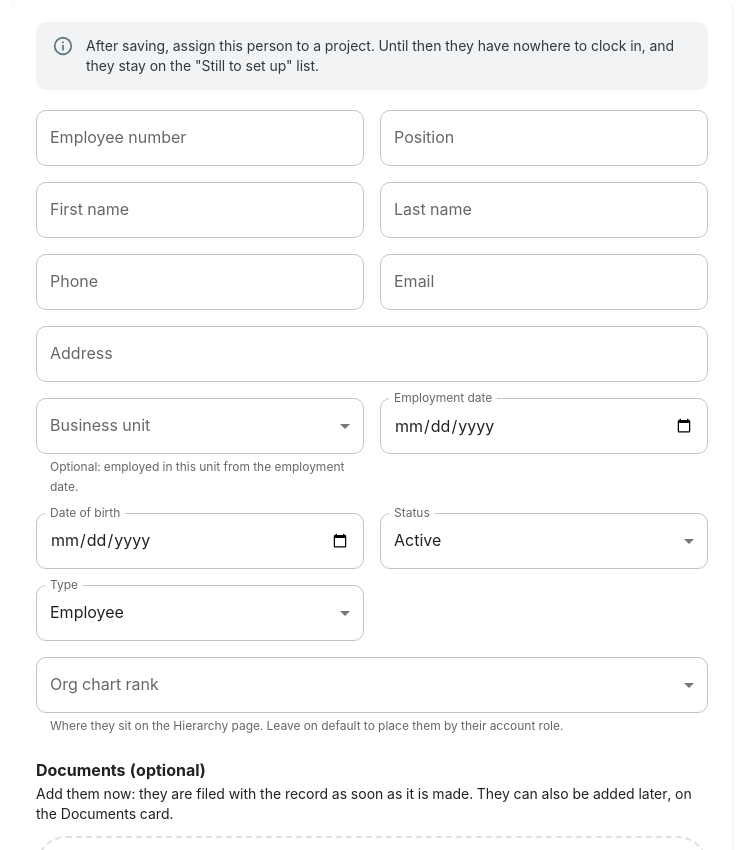
Test: EmployeeFormPage › rejects a date of birth after the employment date
Type "EMP-002" into the field labelled "Employee number" at (200, 138), box [36,110,364,166]
Type "Zidar" into the field labelled "Position" at (544, 138), box [380,110,708,166]
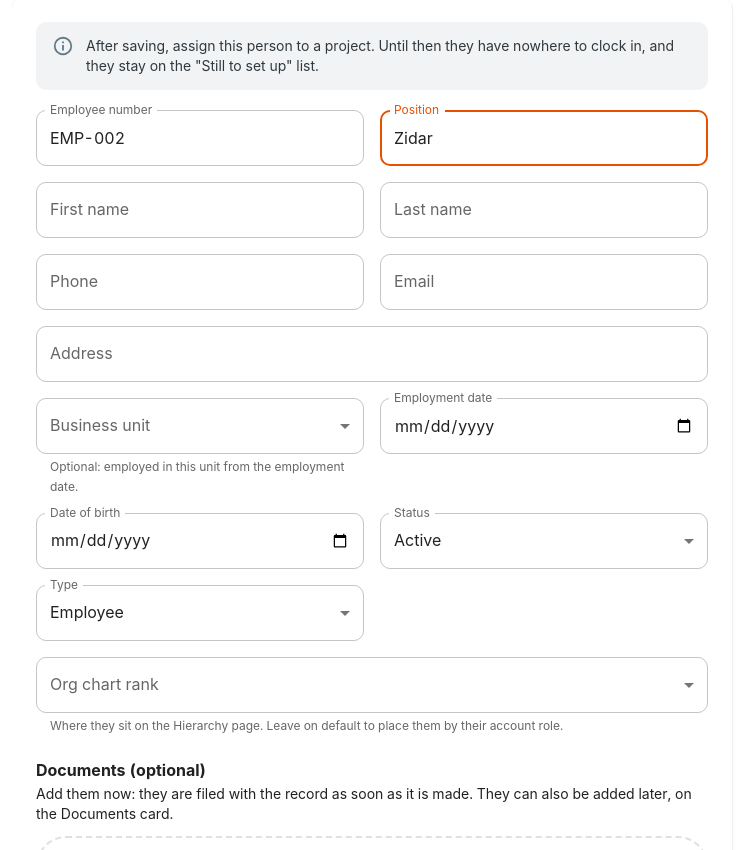
Type "Ana" into the field labelled "First name" at (200, 210), box [36,182,364,238]
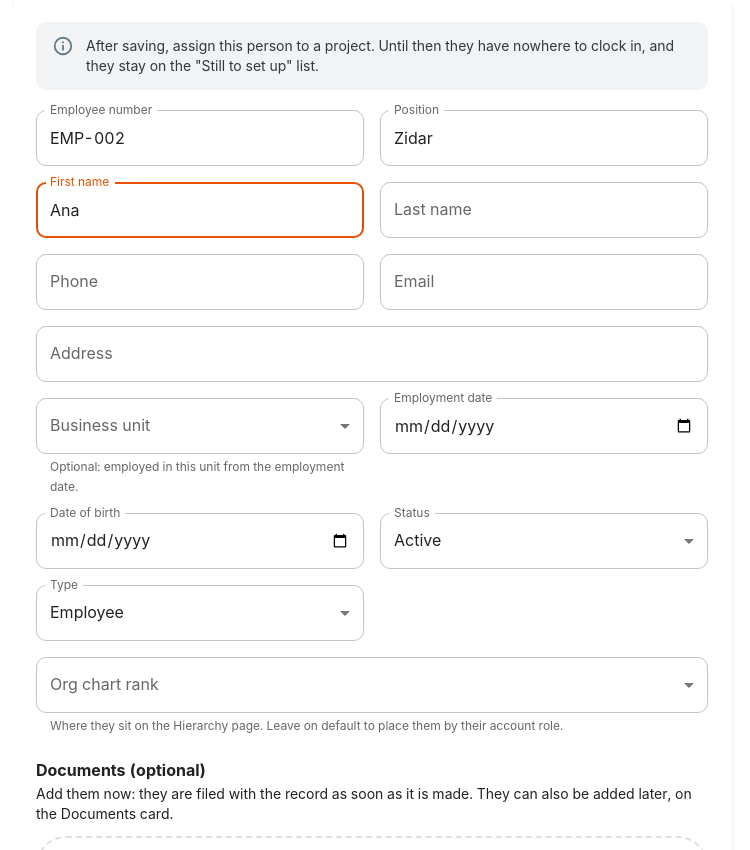
Type "Marić" into the field labelled "Last name" at (544, 210), box [380,182,708,238]
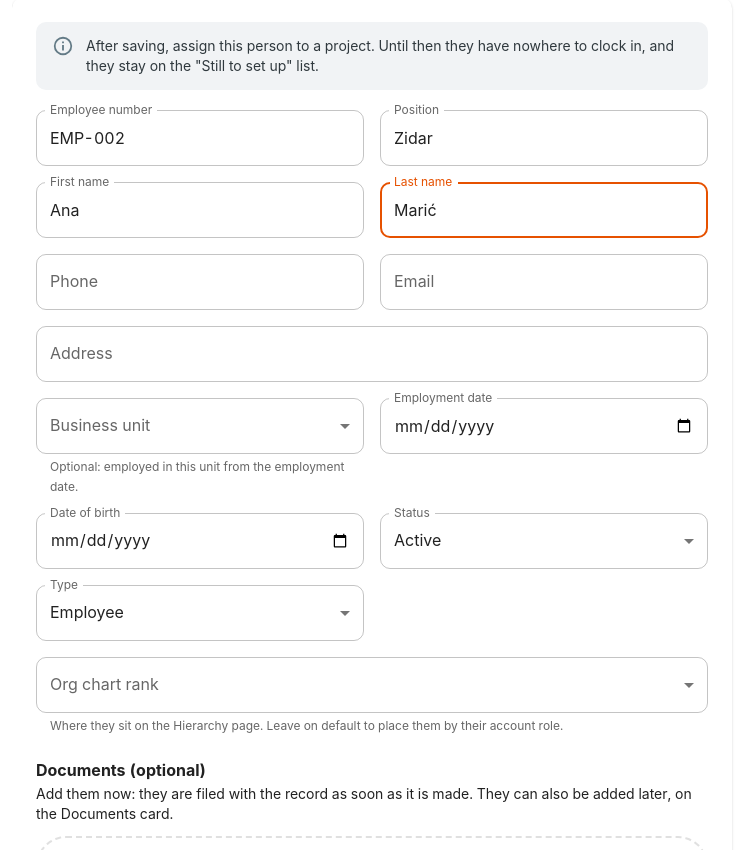
Type "2020-01-01" into the date field labelled "Employment date" at (544, 426), box [380,398,708,454]
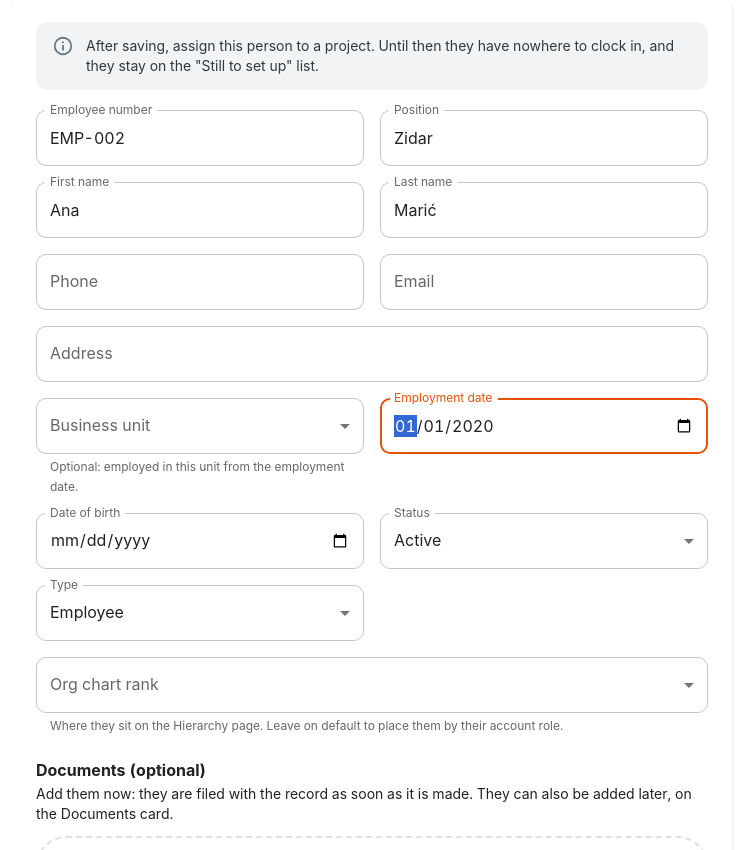
Type "2021-06-01" into the date field labelled "Date of birth" at (200, 541), box [36,513,364,569]
(page scrolled)
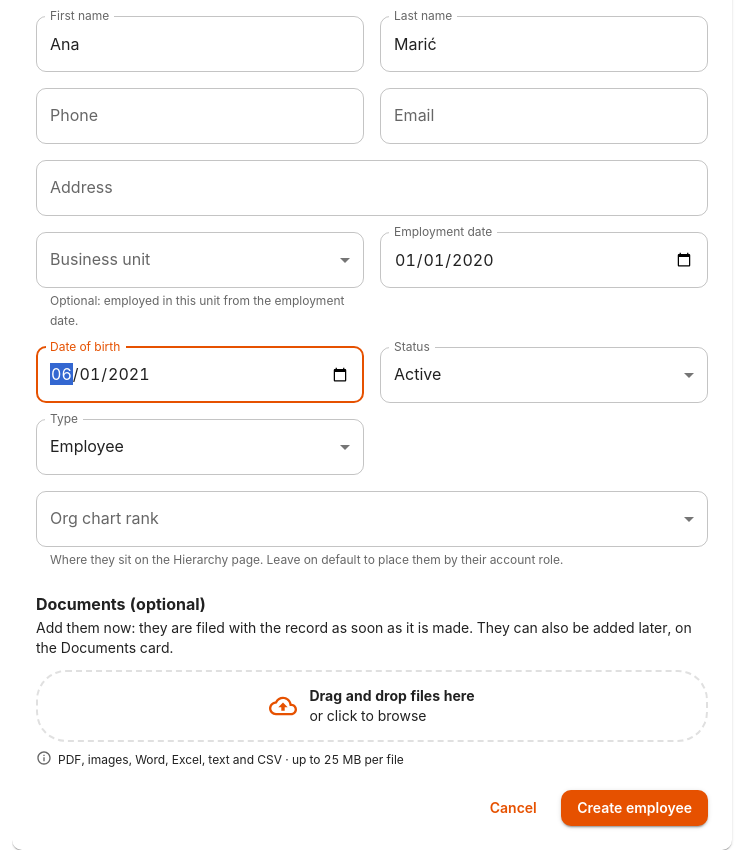
Click the button "Create employee" at (635, 808), box [561,790,708,826]
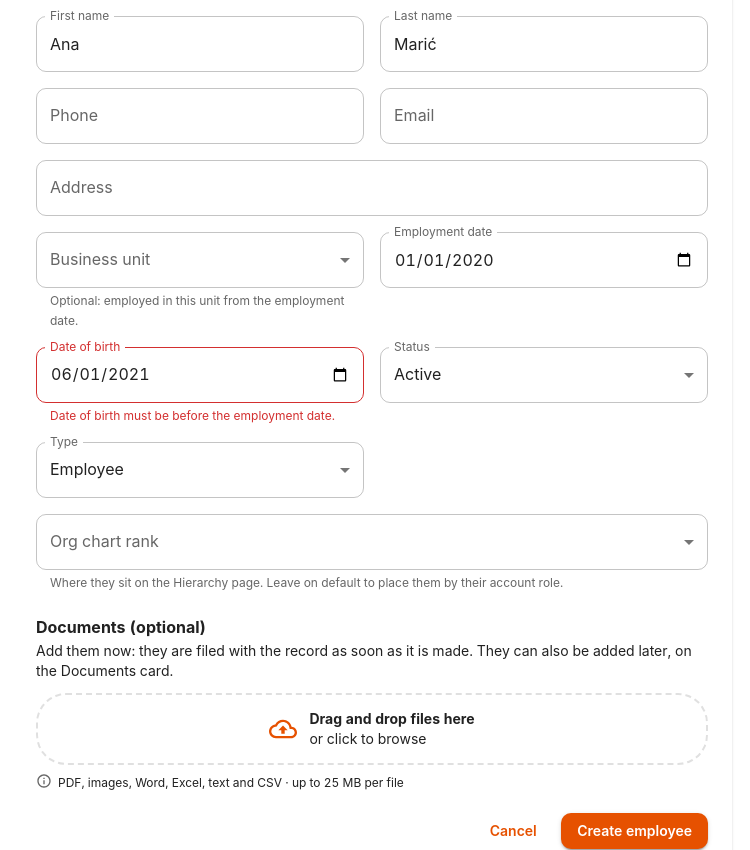
Now the text "Date of birth must be before the employment date." is shown, box [50,406,350,426]
